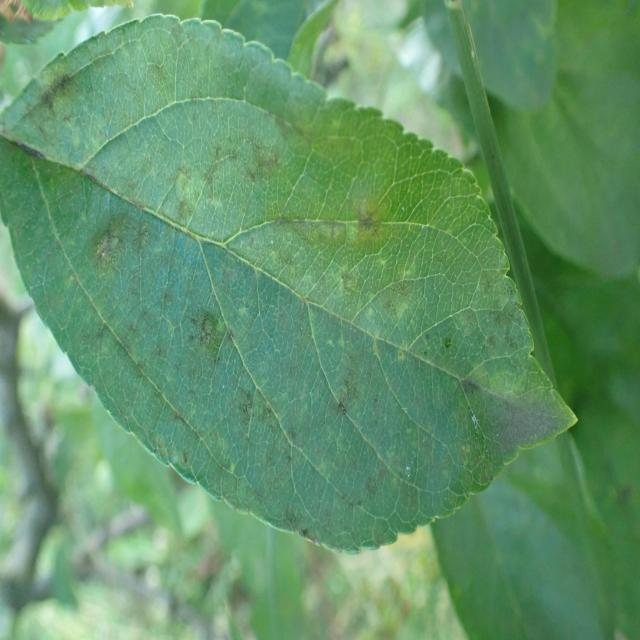scab: (1, 39, 553, 542)
